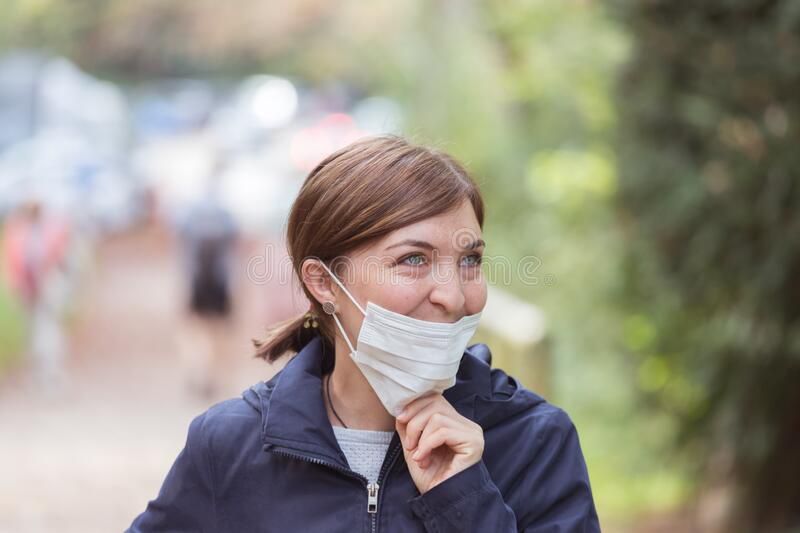mask_weared_incorrect: (356, 232, 491, 415)
